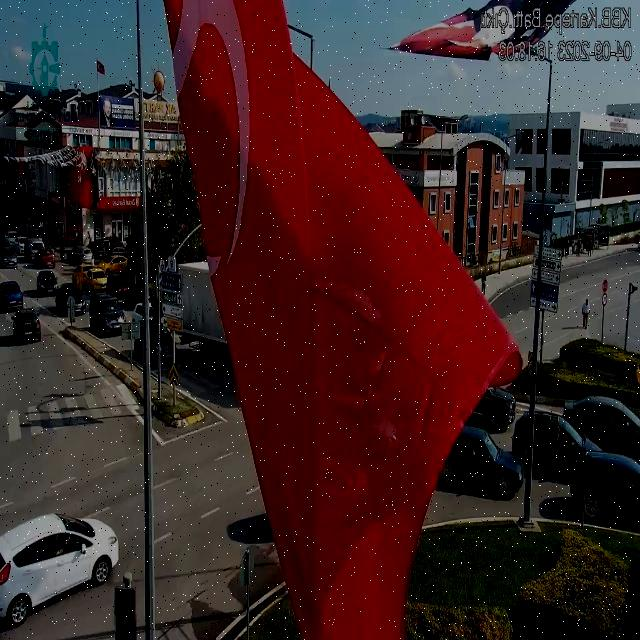Car: (0, 512, 122, 625), (441, 426, 525, 498), (568, 449, 640, 528), (512, 410, 596, 476), (563, 396, 639, 462), (471, 386, 517, 432), (88, 294, 126, 336), (135, 327, 177, 365), (11, 307, 42, 344), (55, 283, 86, 315), (0, 280, 24, 312), (68, 246, 94, 264), (35, 248, 55, 269), (0, 249, 18, 269)
